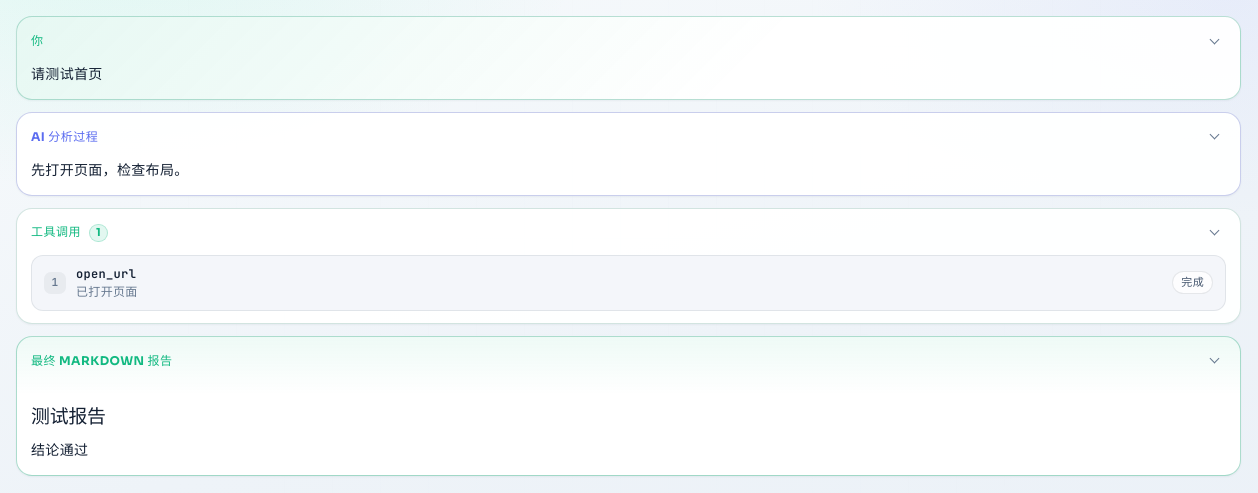
Test: MessageList › renders analysis, tools and final report as separate collapsible blocks
Click the button with class "meta" showing "AI 分析过程".
click(65, 136)  # box [31,125,1226,149]
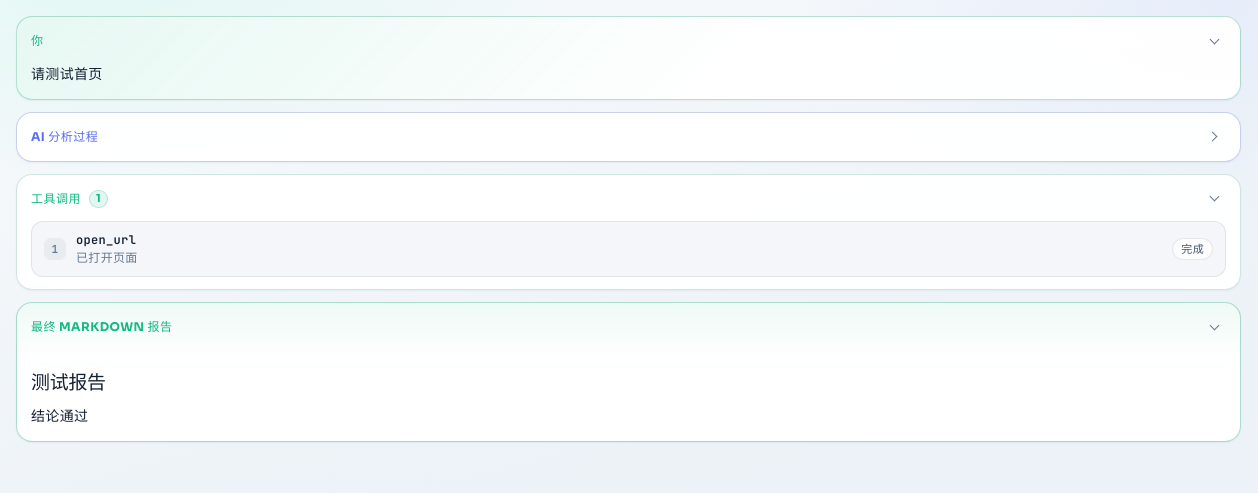
Expected: the number of elements with class "collapsed" is 1, [16,112,1241,162]
Expected: the button with class "meta" is collapsed
Expected: the text "先打开页面，检查布局。" is gone
Click the button with class "meta" showing "AI 分析过程".
click(65, 136)  # box [31,125,1226,149]
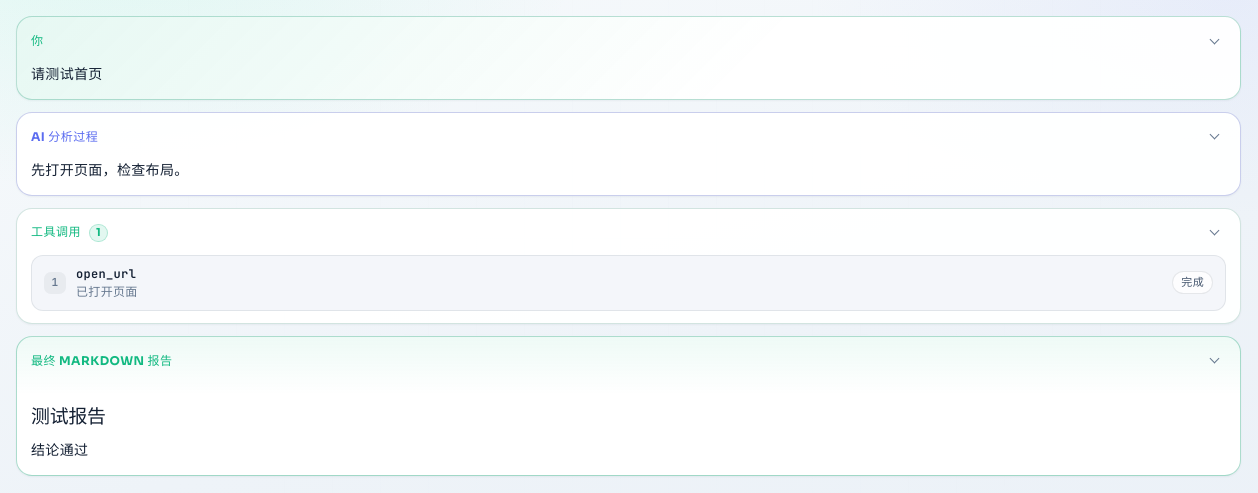
Expected: the text "open_url" is shown, [76,266,136,282]
Expected: the text "先打开页面，检查布局。" is shown, [31,161,188,179]
